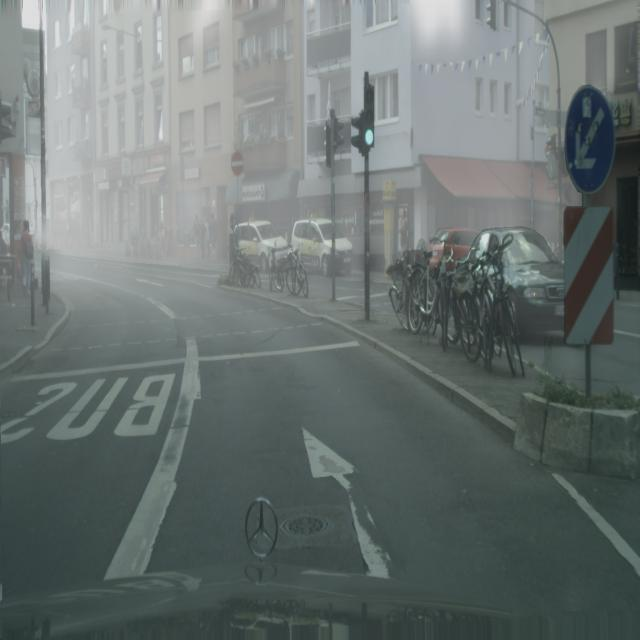bus: (20, 220, 34, 300), (208, 212, 218, 261), (193, 214, 201, 262), (201, 217, 208, 261)
person: (452, 226, 564, 339), (290, 218, 353, 278), (233, 219, 290, 271), (425, 227, 480, 274)
truck: (479, 242, 526, 380), (419, 244, 454, 352), (451, 261, 482, 362), (408, 248, 437, 333), (387, 258, 414, 332)
